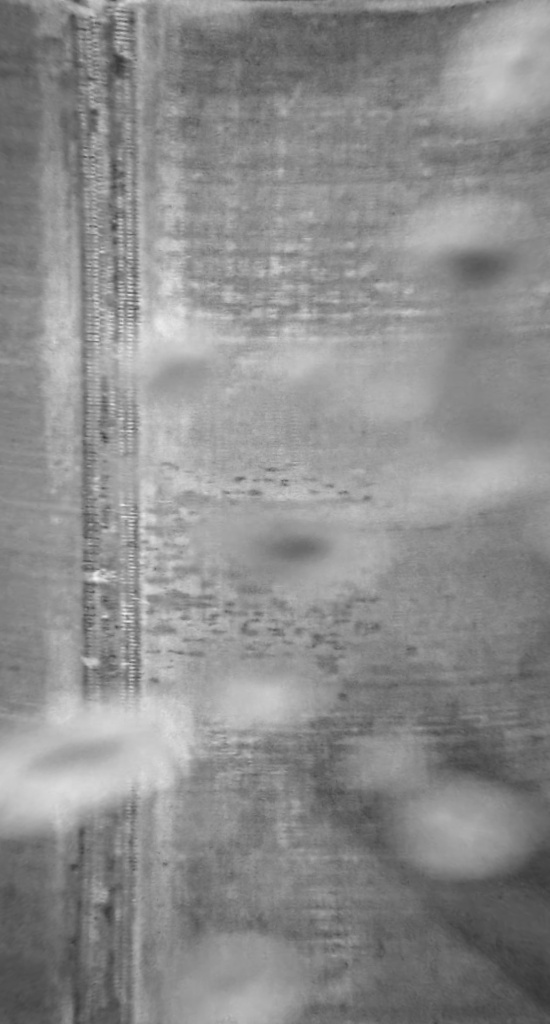splice: (47, 1, 144, 1022)
